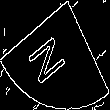N_NE: (32, 24, 78, 86)
